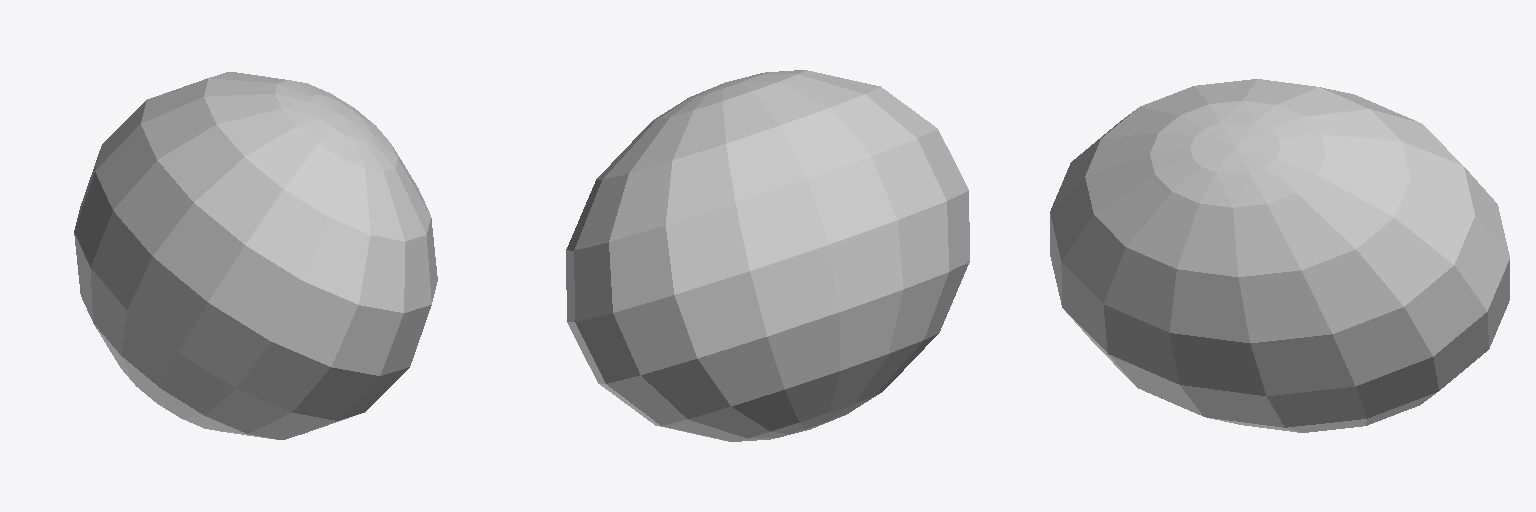
Rendered from Ovary_R.obj.
The picture shows the model from 3 angles: view 1: azimuth 30°, elevation 25°; view 2: azimuth 150°, elevation 25°; view 3: azimuth 270°, elevation 25°; orthographic projection.
Parts seen in each view (by area): view 1: Ovary_R_Sphere.000; view 2: Ovary_R_Sphere.000; view 3: Ovary_R_Sphere.000.
Part boxes in pixels (bbox=[...]): Ovary_R_Sphere.000: bbox=[74, 72, 437, 439]; Ovary_R_Sphere.000: bbox=[566, 70, 969, 441]; Ovary_R_Sphere.000: bbox=[1050, 79, 1509, 432].
Bounding box in the file's own units: 0.8744 × 0.8593 × 1.12.